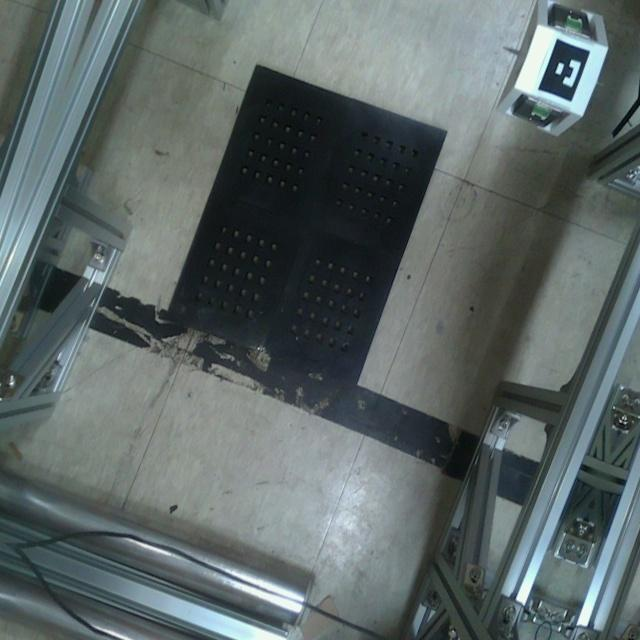pallet: (157, 58, 456, 394)
